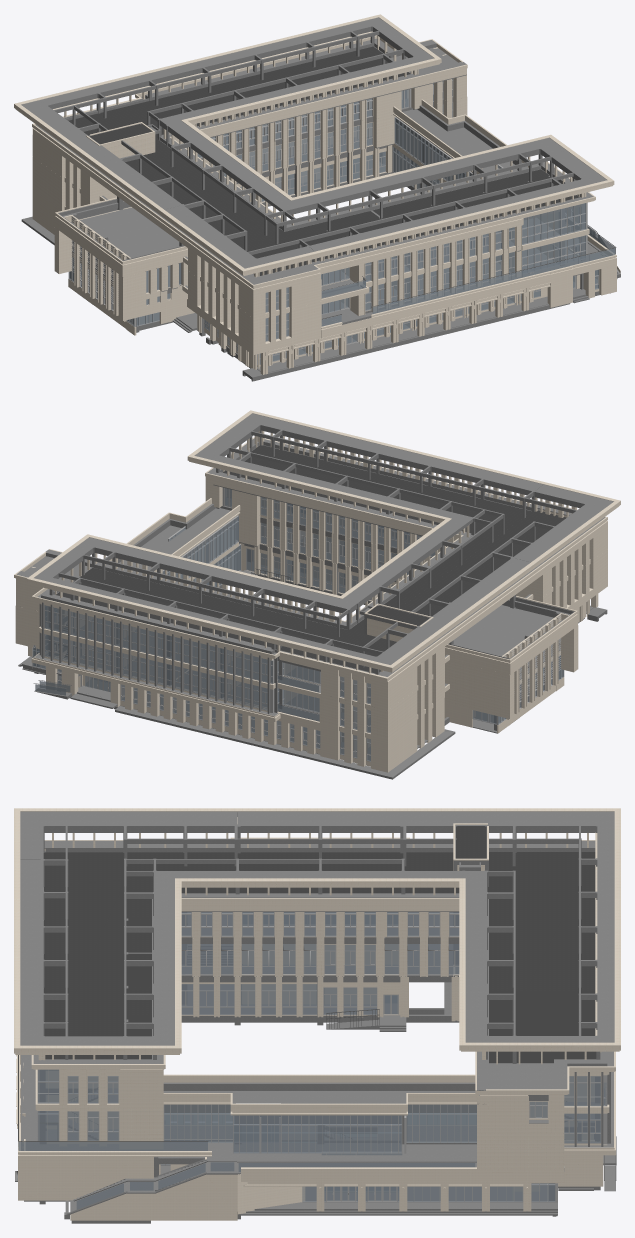
Rendered from 2jxl.gltf.
3 views of the same model, one above another, from view 1: azimuth 30°, elevation 25°; view 2: azimuth 150°, elevation 25°; view 3: azimuth 270°, elevation 25° (orthographic). The views are drawn at different scales.
Parts seen in each view (by area): view 1: 2jxldc01, 2jxl3c01, 2jxl2c01, 2jxl1c01; view 2: 2jxldc01, 2jxl3c01, 2jxl2c01, 2jxl1c01; view 3: 2jxldc01, 2jxl2c01, 2jxl1c01, 2jxl3c01.
Part boxes in pixels (x1,y1,x2,y2): 2jxldc01: [14, 14, 614, 284]; 2jxl3c01: [32, 35, 595, 317]; 2jxl2c01: [32, 97, 619, 346]; 2jxl1c01: [21, 143, 620, 381]; 2jxldc01: [16, 410, 620, 676]; 2jxl3c01: [14, 437, 607, 710]; 2jxl2c01: [15, 507, 607, 739]; 2jxl1c01: [18, 527, 607, 779]; 2jxldc01: [14, 808, 620, 1104]; 2jxl2c01: [17, 938, 613, 1214]; 2jxl1c01: [15, 964, 616, 1223]; 2jxl3c01: [31, 837, 615, 1132].
Size of the model in its own units: 67.93 by 18 by 61.6.
Materials: 7 (4 with a texture image).
